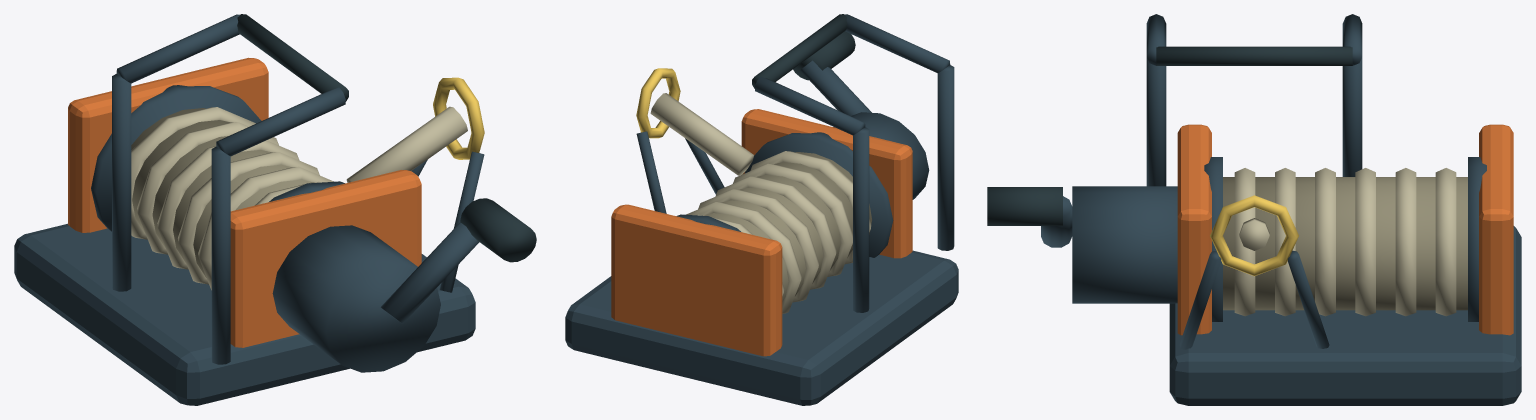
File: winch.glb
The picture shows the model from 3 angles, left to right: view 1: azimuth 30°, elevation 25°; view 2: azimuth 150°, elevation 25°; view 3: azimuth 270°, elevation 25°; orthographic projection. The views are drawn at different scales.
Parts seen in each view (by area): view 1: tyaga-winch-surface, portable-winch-hardware-surface, drum-surface, winch-handle-surface; view 2: tyaga-winch-surface, portable-winch-hardware-surface, drum-surface, winch-handle-surface; view 3: tyaga-winch-surface, drum-surface, portable-winch-hardware-surface, winch-handle-surface.
Part boxes in pixels (x1,y1,x2,y2): tyaga-winch-surface: (14, 57, 475, 405); portable-winch-hardware-surface: (112, 14, 484, 364); drum-surface: (91, 85, 344, 290); winch-handle-surface: (380, 198, 536, 323); tyaga-winch-surface: (565, 109, 958, 405); portable-winch-hardware-surface: (636, 14, 954, 312); drum-surface: (676, 132, 893, 313); winch-handle-surface: (793, 31, 871, 115); tyaga-winch-surface: (1072, 124, 1521, 405); drum-surface: (1204, 157, 1486, 321); portable-winch-hardware-surface: (1146, 14, 1362, 349); winch-handle-surface: (987, 187, 1072, 247).
Size of the model in its own units: 0.6713 by 0.593 by 0.98.
